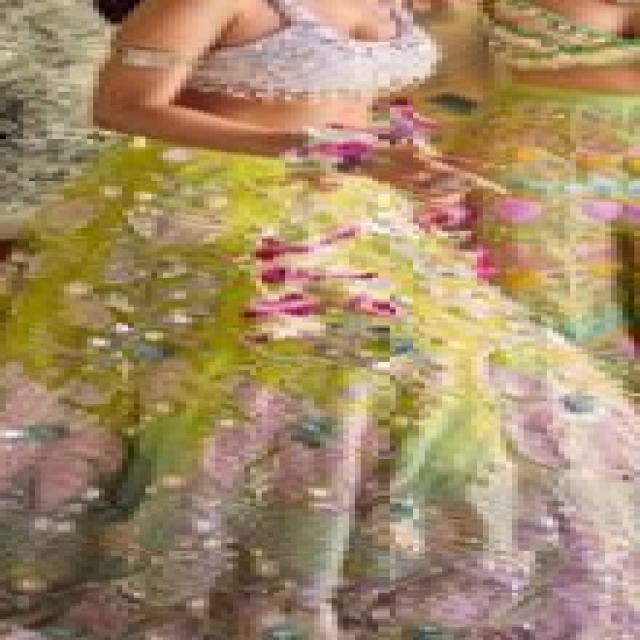Saree: (0, 0, 640, 640), (413, 0, 640, 551)
